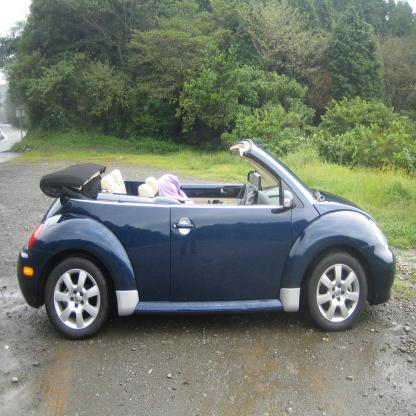Car: (17, 139, 397, 340)
